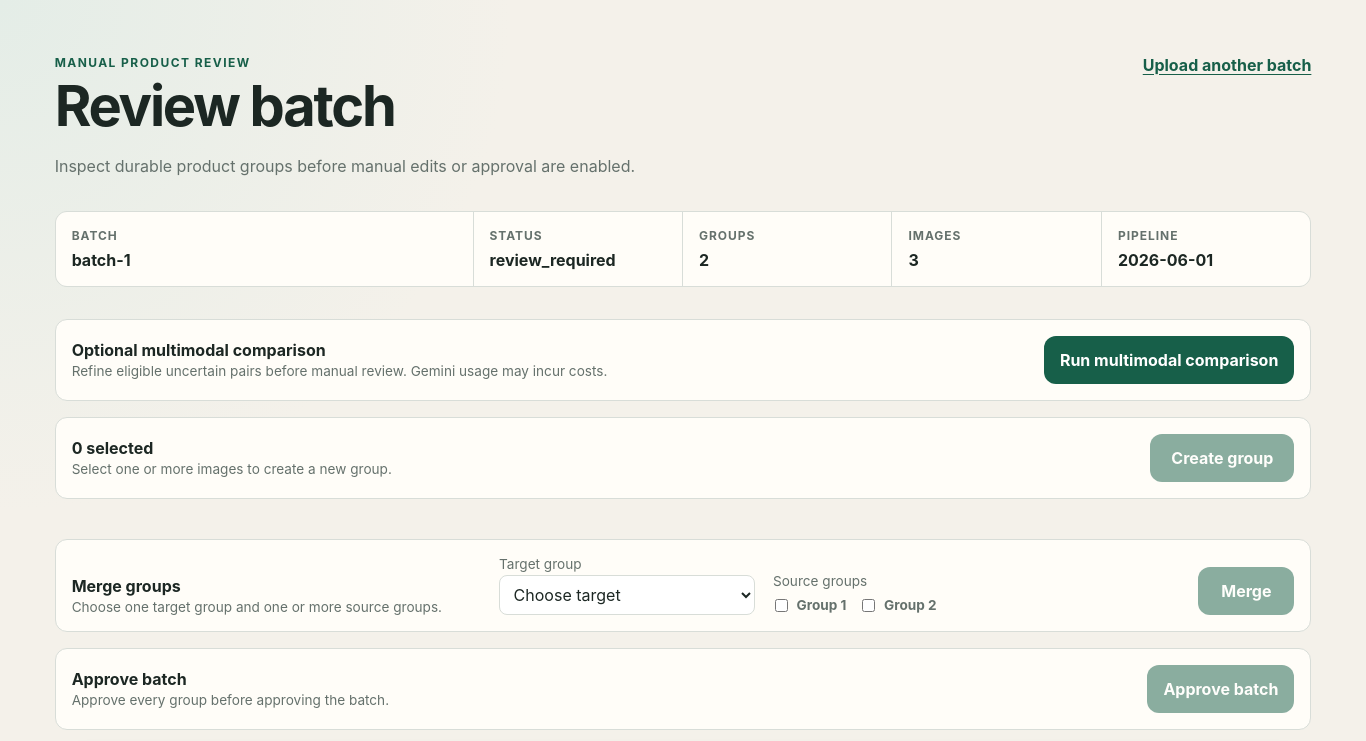
Test: ReviewBatch › merges selected source groups into the selected target group
The image size is (1366, 741).
Select "Group 1" in the dropdown named "Merge target group" at (627, 595), box x1=499 y1=575 x2=755 y2=615
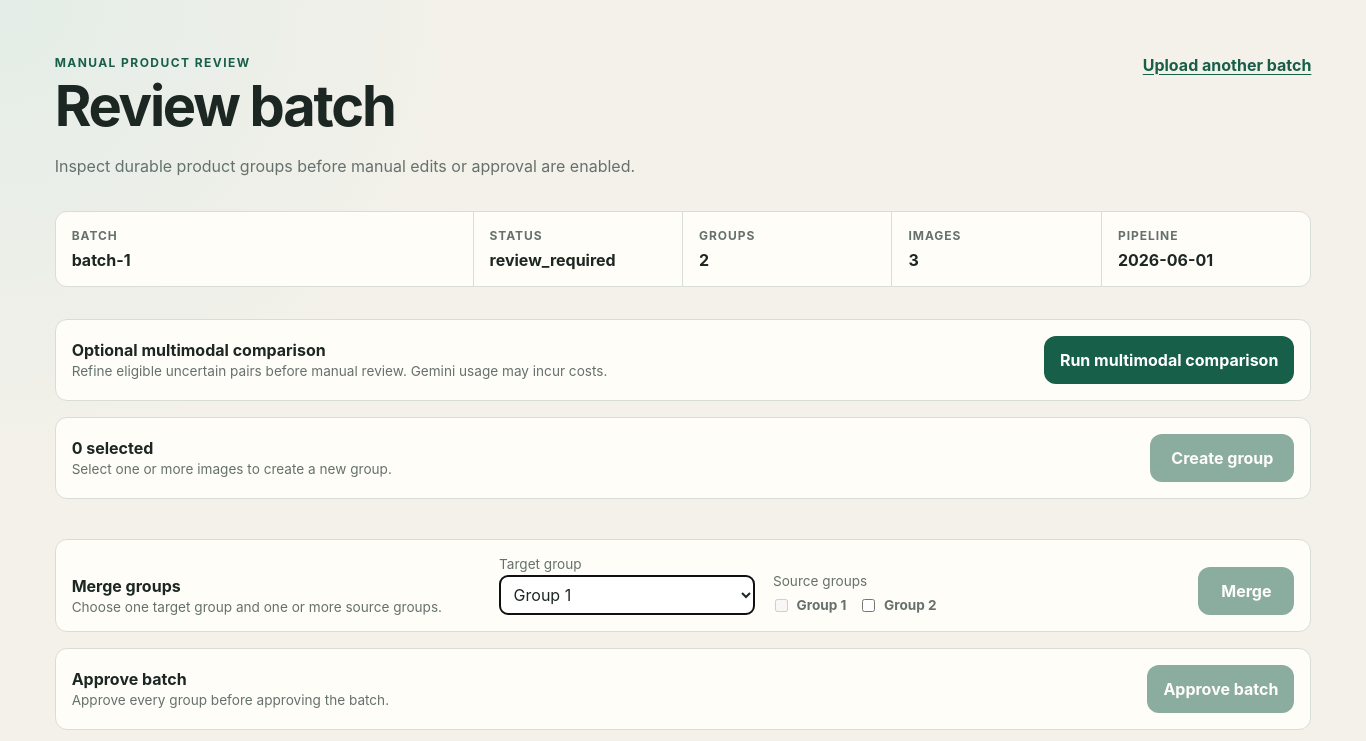
Click the checkbox labelled "Group 2".
click(869, 605)  # box x1=862 y1=599 x2=876 y2=612
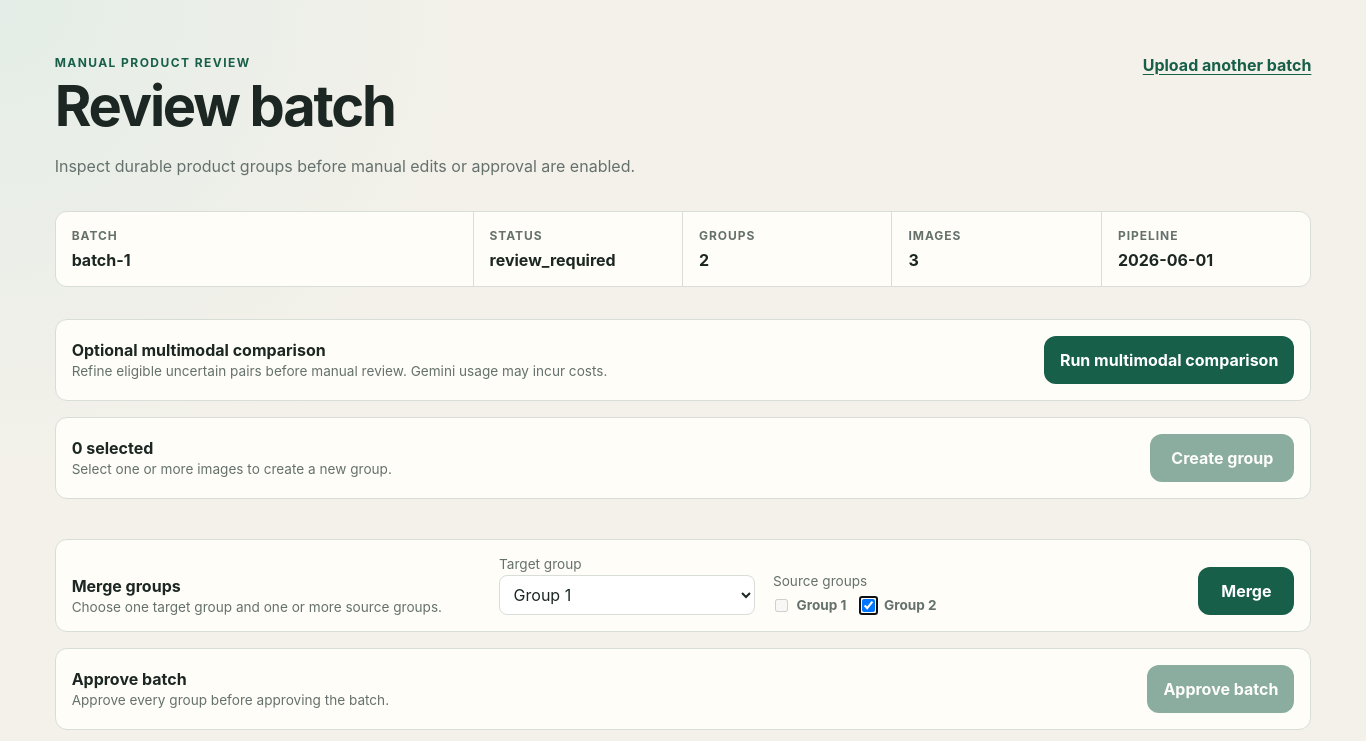
Click the button "Merge".
click(1246, 591)  # box x1=1198 y1=567 x2=1294 y2=615
(page scrolled)
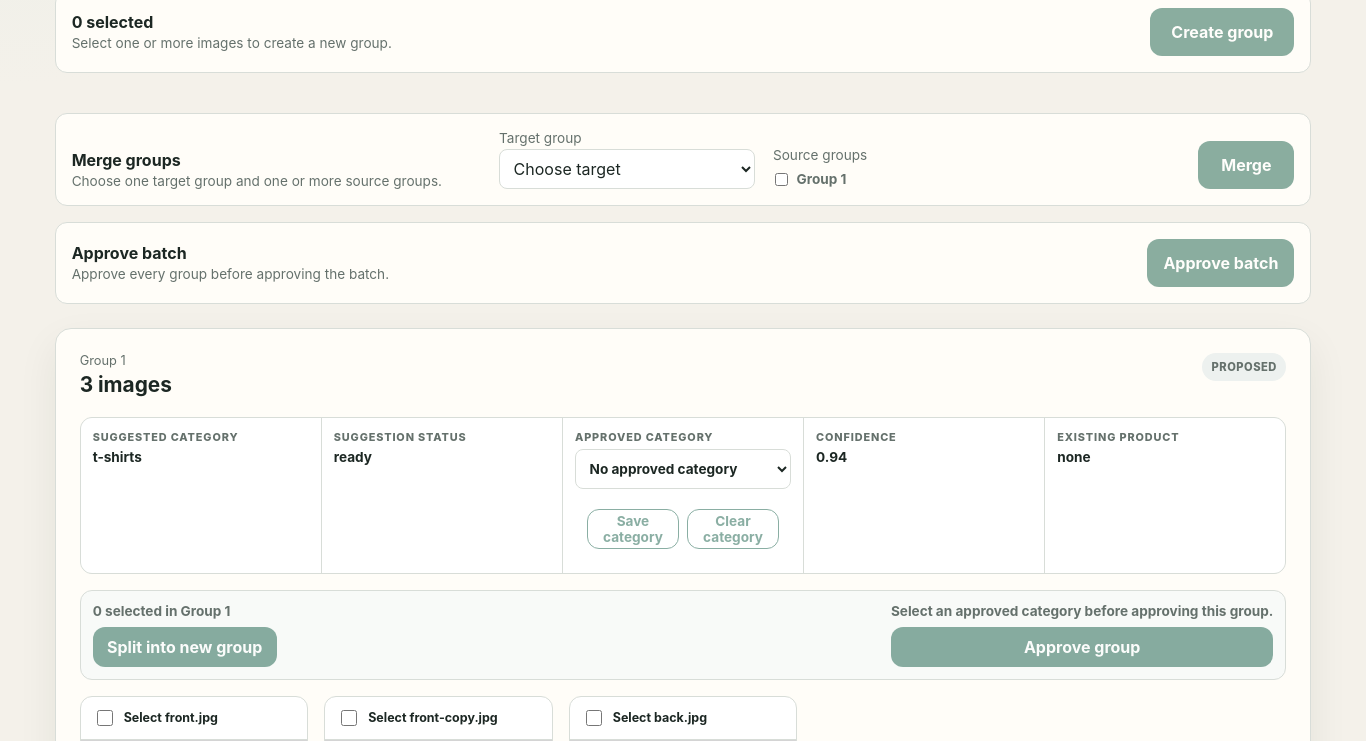
Now the heading "3 images" is shown, box x1=80 y1=372 x2=172 y2=397
